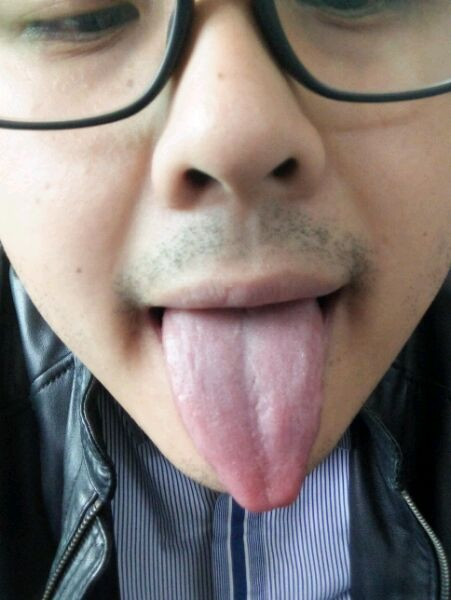baitaishe: (162, 300, 322, 513)
